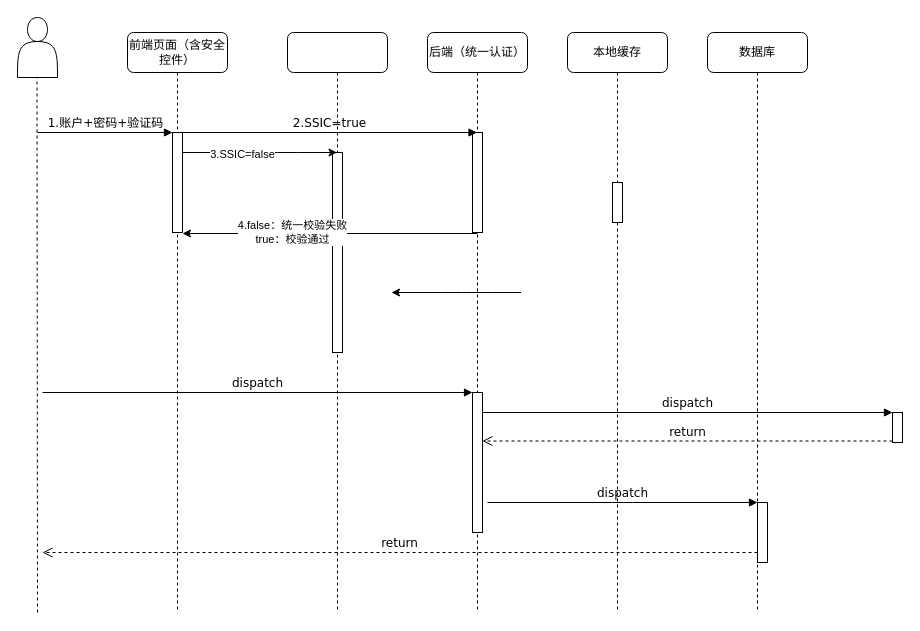
Image size: 920x631. Some labels were removed from this diagram. The shapes that lost their labels are listed below. From the top down, each one's centre as x and y in pixels, then its label:
At point 37,47: "用户".
At point 337,322: "后端（普通认证）".
